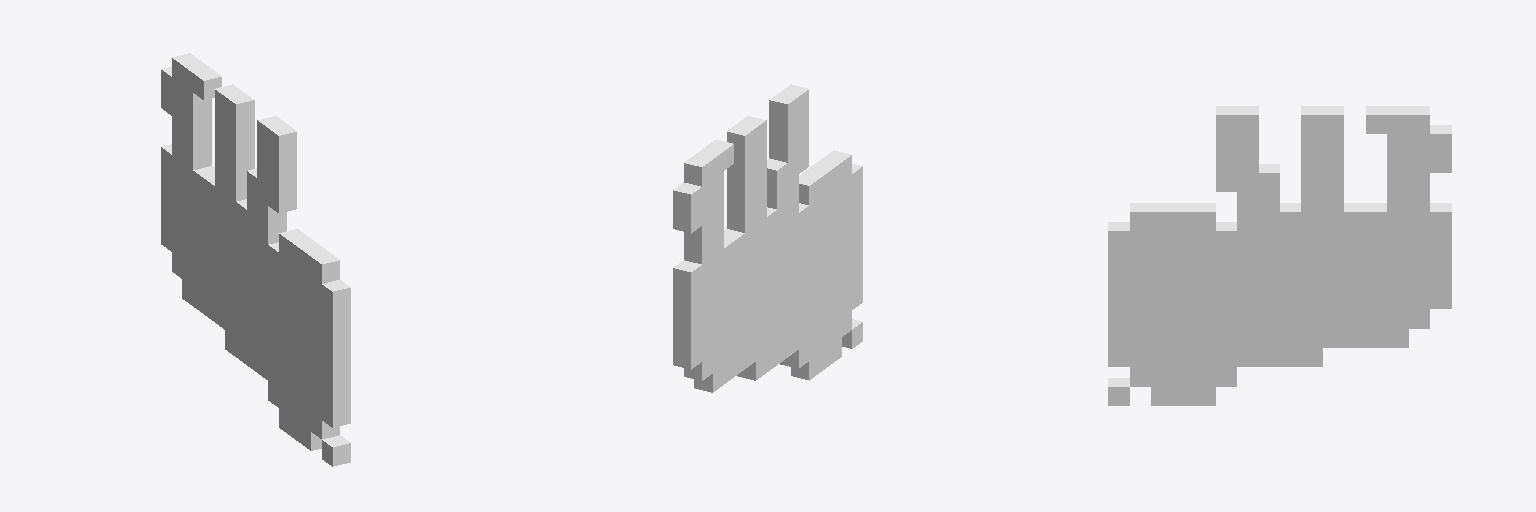
File: Crawl4.obj
The picture shows the model from 3 angles: view 1: azimuth 30°, elevation 25°; view 2: azimuth 150°, elevation 25°; view 3: azimuth 270°, elevation 25°; orthographic projection.
Visible parts, largest first — view 1: object 1; view 2: object 1; view 3: object 1.
Boxes of the visible parts, <box> form: object 1: <box>161,53,350,466</box>; object 1: <box>673,84,862,392</box>; object 1: <box>1108,106,1451,405</box>.
Bounding box in the file's own units: 0.1 × 1.5 × 1.6.